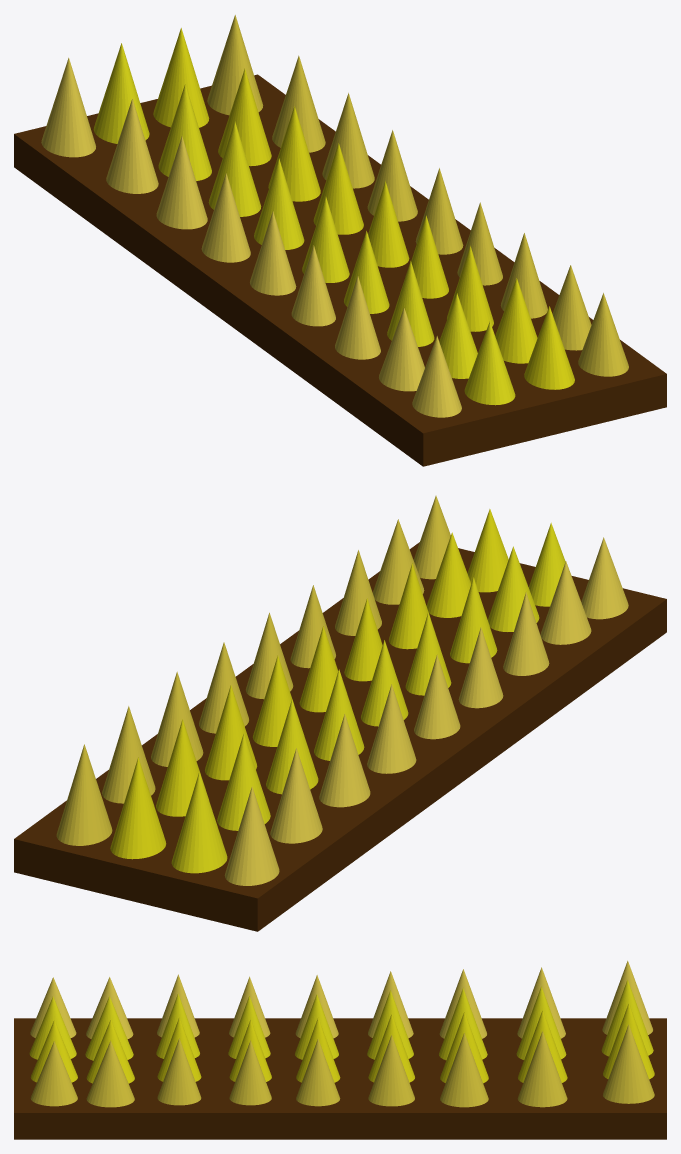
Rendered from skewers.fbx.
The picture shows the model from 3 angles, top to bottom: view 1: azimuth 30°, elevation 25°; view 2: azimuth 150°, elevation 25°; view 3: azimuth 270°, elevation 25°; orthographic projection. The views are drawn at different scales.
Visible parts, largest first — view 1: Cone.032; view 2: Cone.032; view 3: Cone.032.
Boxes of the visible parts, x1,y1,x2,y2 form: Cone.032: (14, 15, 666, 466); Cone.032: (14, 495, 666, 931); Cone.032: (14, 960, 666, 1139).
Size of the model in its own units: 270 by 130 by 786.
